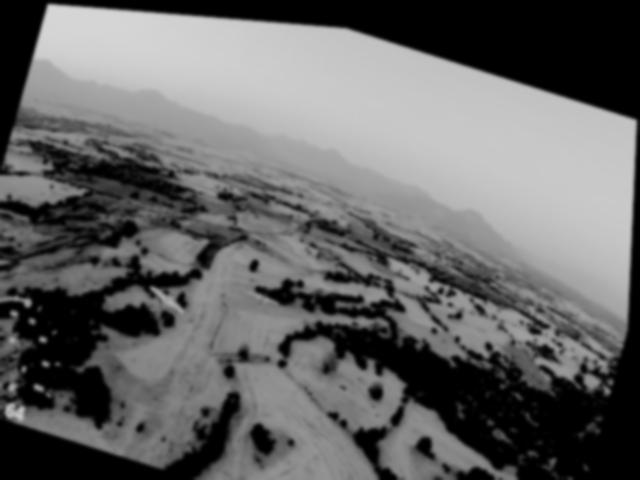hedef: (141, 270, 198, 317), (243, 274, 288, 312)
